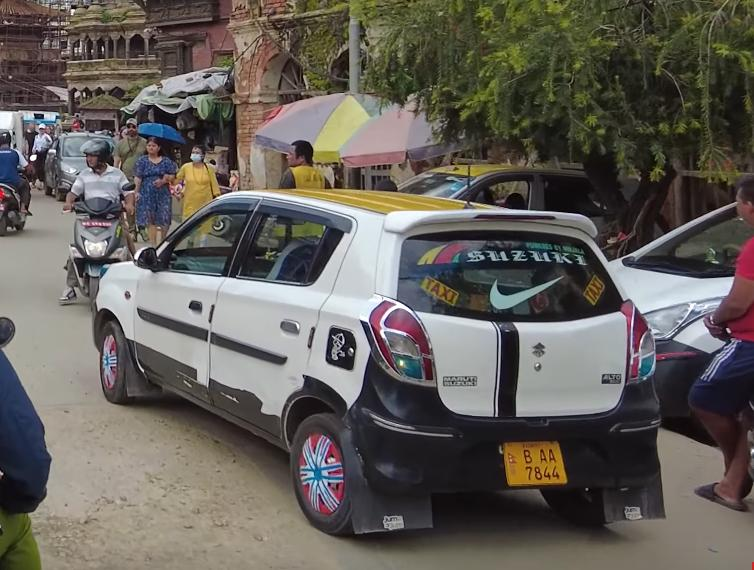scooter: (56, 181, 138, 309), (0, 153, 37, 239)
taxi: (90, 183, 671, 541)
